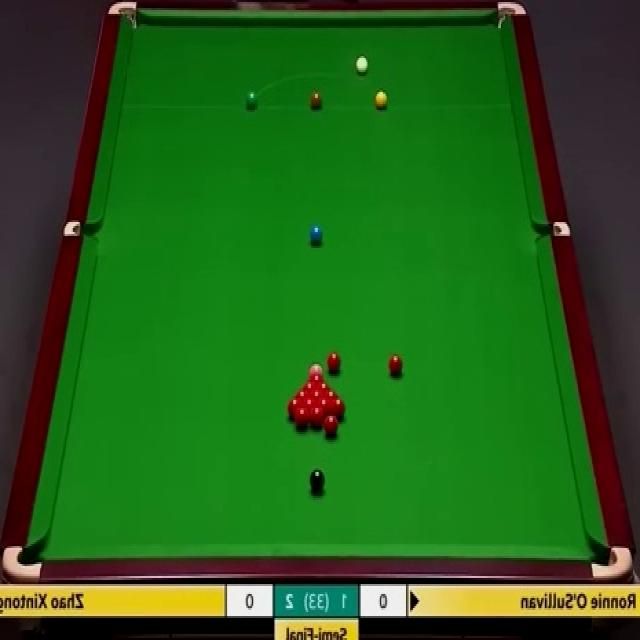black-ball: (309, 468, 325, 492)
blue-ball: (308, 223, 324, 246)
brown-ball: (310, 91, 322, 110)
green-ball: (246, 90, 258, 109)
pink-ball: (308, 362, 324, 374)
red-ball: (388, 353, 404, 377), (308, 406, 324, 429), (326, 352, 342, 375), (330, 398, 345, 421), (324, 414, 338, 438), (295, 406, 309, 430), (288, 398, 302, 418), (323, 389, 338, 402), (295, 388, 308, 402), (302, 398, 317, 410), (302, 382, 317, 394), (318, 398, 330, 412), (310, 390, 324, 402), (315, 381, 331, 390), (309, 373, 324, 382)
white-ball: (355, 55, 369, 75)
yellow-ball: (376, 88, 387, 110)
